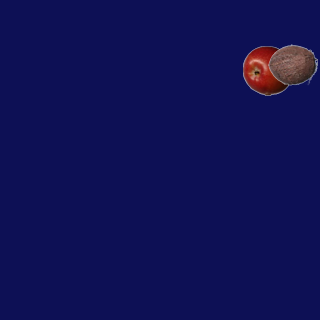Apple Braeburn: (242, 45, 292, 95)
Cocos: (267, 39, 317, 89)
